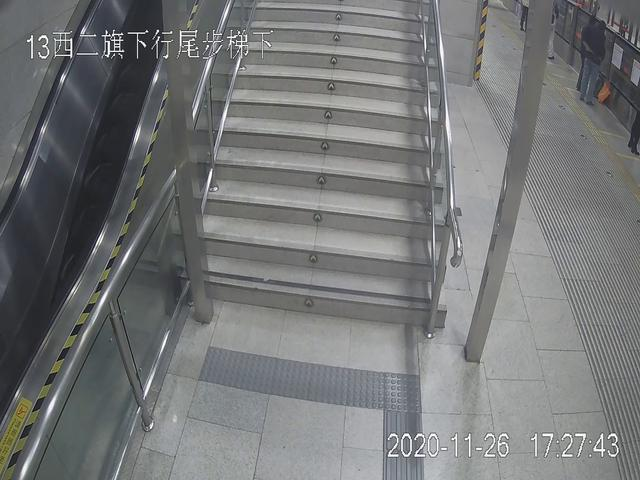person: (582, 19, 609, 106)
